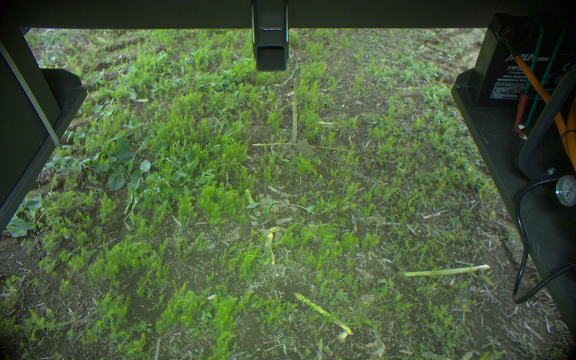aspa: (291, 288, 354, 339), (393, 263, 489, 279), (292, 59, 304, 144), (241, 187, 257, 209)
